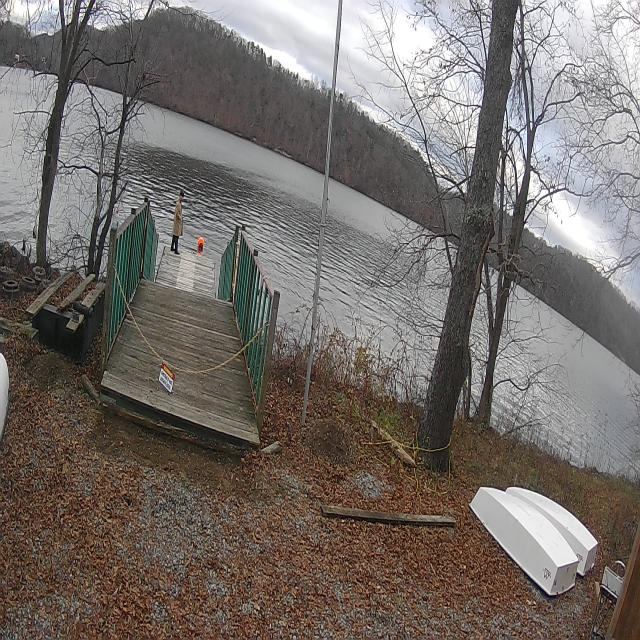Buoy: (196, 234, 205, 252)
